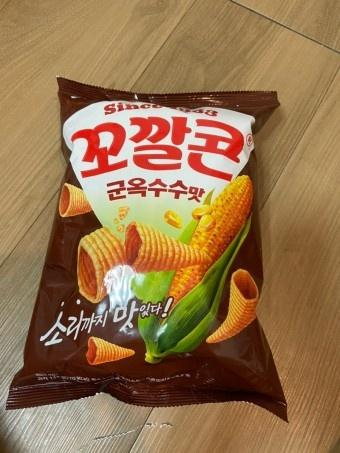snack: (5, 74, 289, 425)
